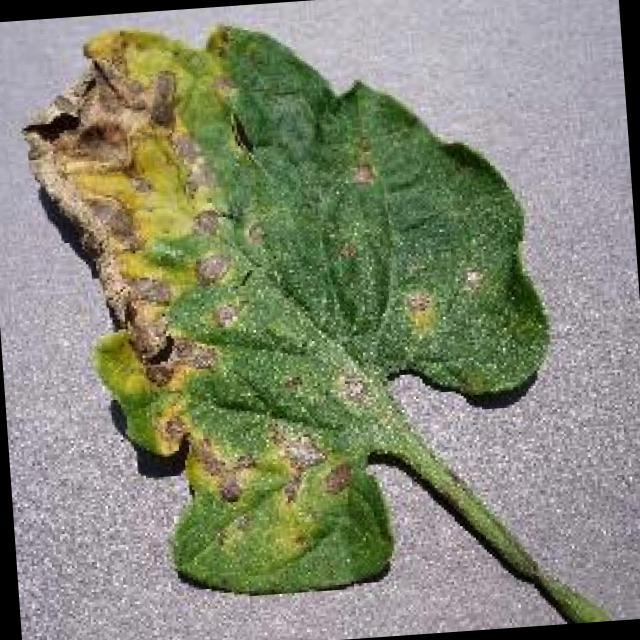Tomato Septoria spot leaf: (16, 0, 564, 607)
